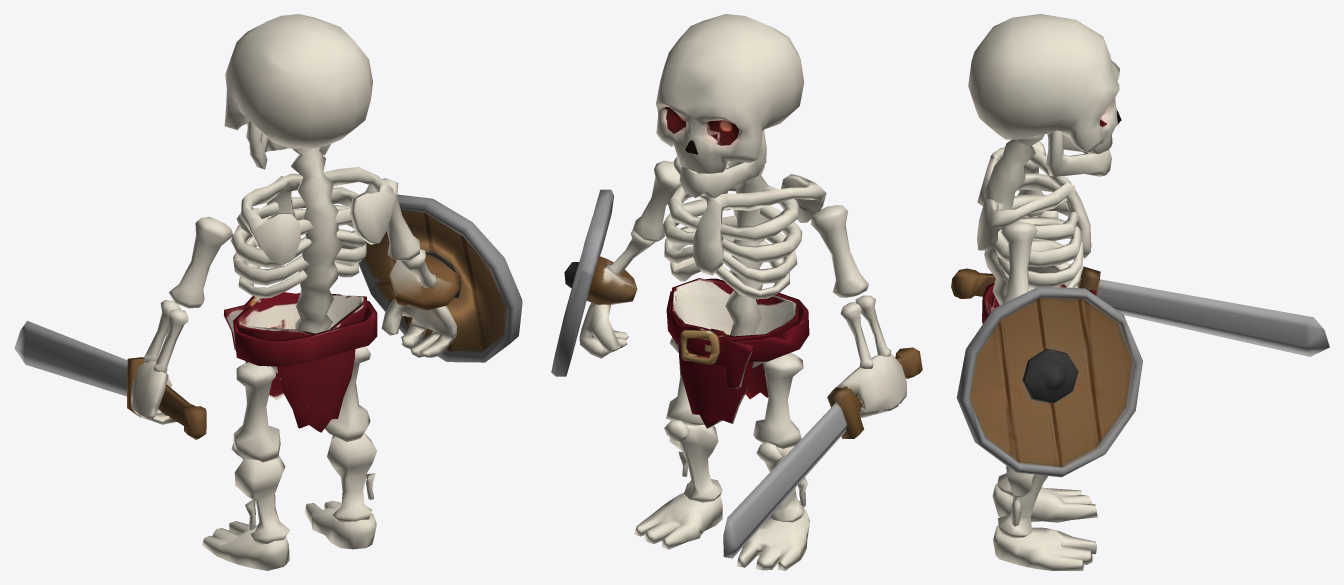
File: skeleton.glb
3 views of the same model, side by side, from view 1: azimuth 30°, elevation 25°; view 2: azimuth 150°, elevation 25°; view 3: azimuth 270°, elevation 25° (orthographic).
Visible parts, largest first — view 1: Part0, Part2, Part1; view 2: Part0, Part2, Part1; view 3: Part0, Part1, Part2.
Boxes of the visible parts, <box> form: Part0: <box>202,14,522,560</box>; Part2: <box>204,298,377,570</box>; Part1: <box>14,217,232,439</box>; Part0: <box>551,14,826,570</box>; Part2: <box>634,280,809,570</box>; Part1: <box>723,205,922,558</box>; Part0: <box>956,14,1142,492</box>; Part1: <box>951,141,1329,356</box>; Part2: <box>982,293,1097,570</box>.
Size of the model in its own units: 1.15 by 1.6 by 1.07.
1 material, 1 textured.
